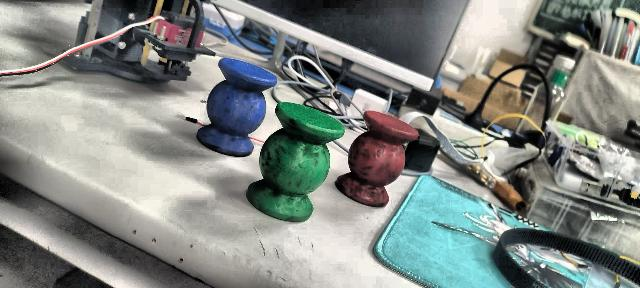blue: (196, 57, 276, 157)
green: (244, 104, 346, 220)
red: (336, 110, 417, 206)
